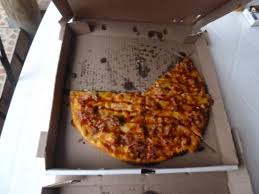pizza: (69, 58, 210, 163)
